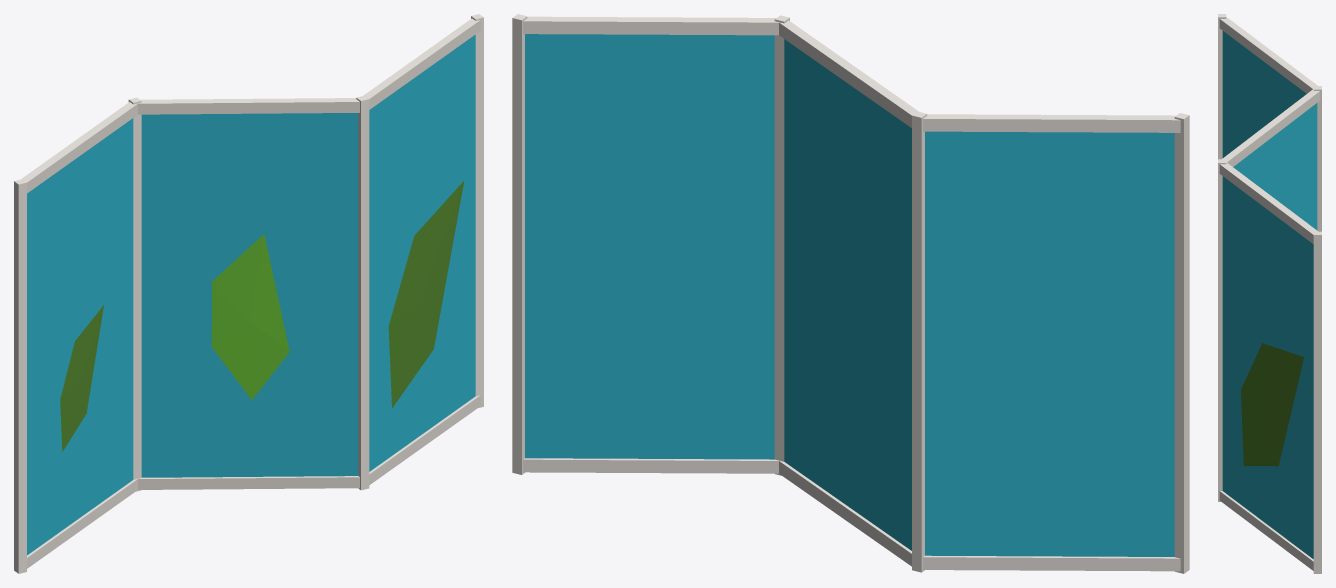
Rendered from glass_partition.glb.
3 renders of one model, left to right at view 1: azimuth 30°, elevation 25°; view 2: azimuth 150°, elevation 25°; view 3: azimuth 270°, elevation 25°, orthographic. The views are drawn at different scales.
Visible parts, largest first — view 1: frutiger_aero_glass_partition; view 2: frutiger_aero_glass_partition; view 3: frutiger_aero_glass_partition.
Part boxes in pixels (box(x1,y1,x2,y2)): frutiger_aero_glass_partition: box(14, 14, 483, 573); frutiger_aero_glass_partition: box(512, 14, 1189, 573); frutiger_aero_glass_partition: box(1218, 14, 1321, 573).
Bounding box in the file's own units: 3.49 × 2.5 × 0.695.
Materials: 3 (3 with a texture image).
